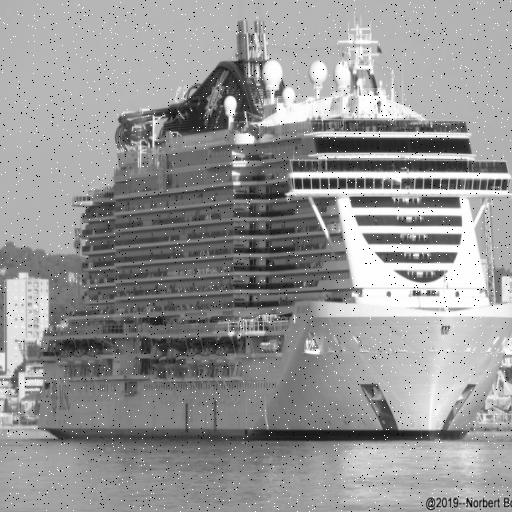cruises: (36, 16, 512, 446)
